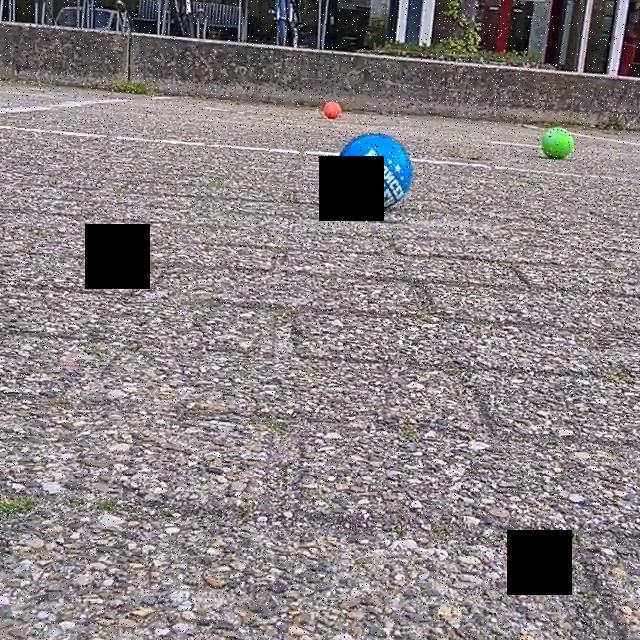ball: (540, 123, 577, 163), (322, 98, 344, 123)
